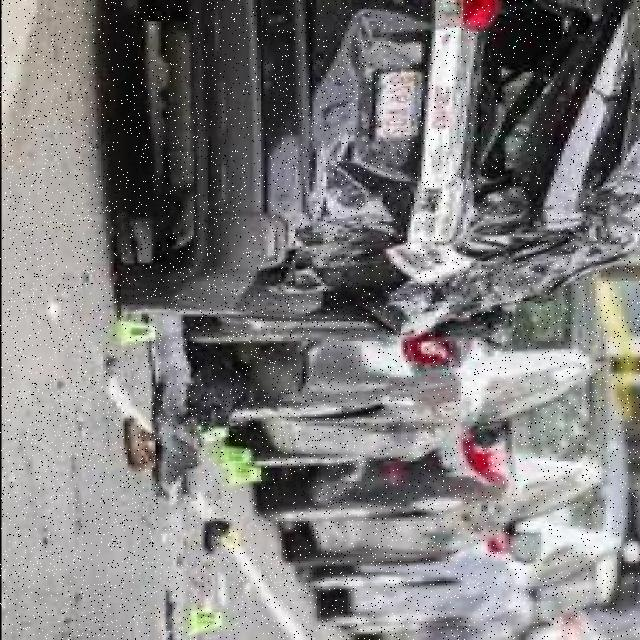damage: (262, 0, 640, 330)
